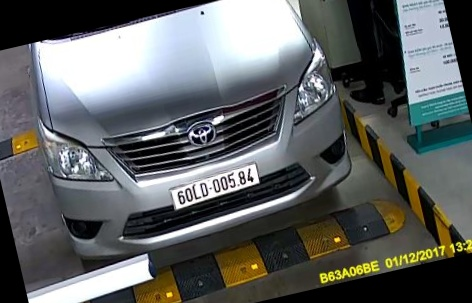plate: (168, 163, 260, 217)
